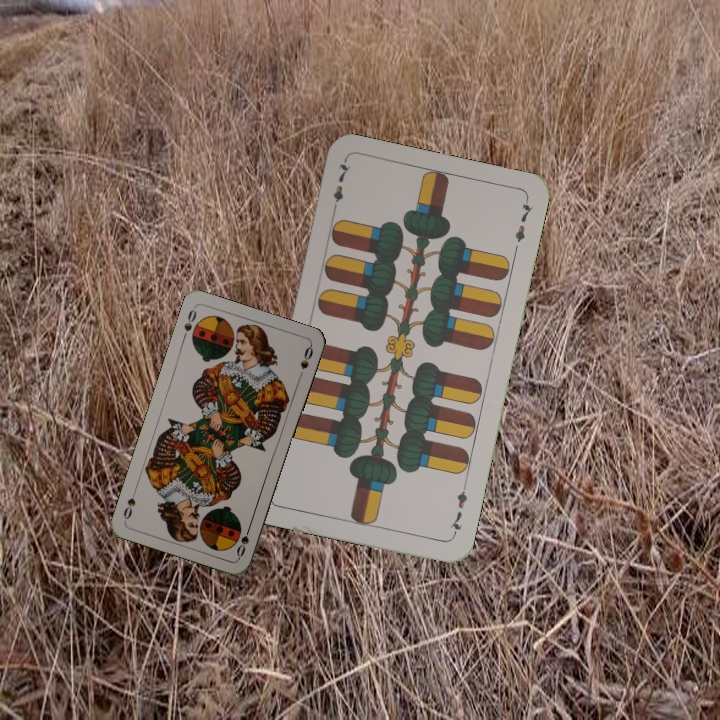E7: (445, 480, 471, 539), (328, 157, 354, 216)
SO: (232, 520, 254, 560), (178, 304, 199, 343)
